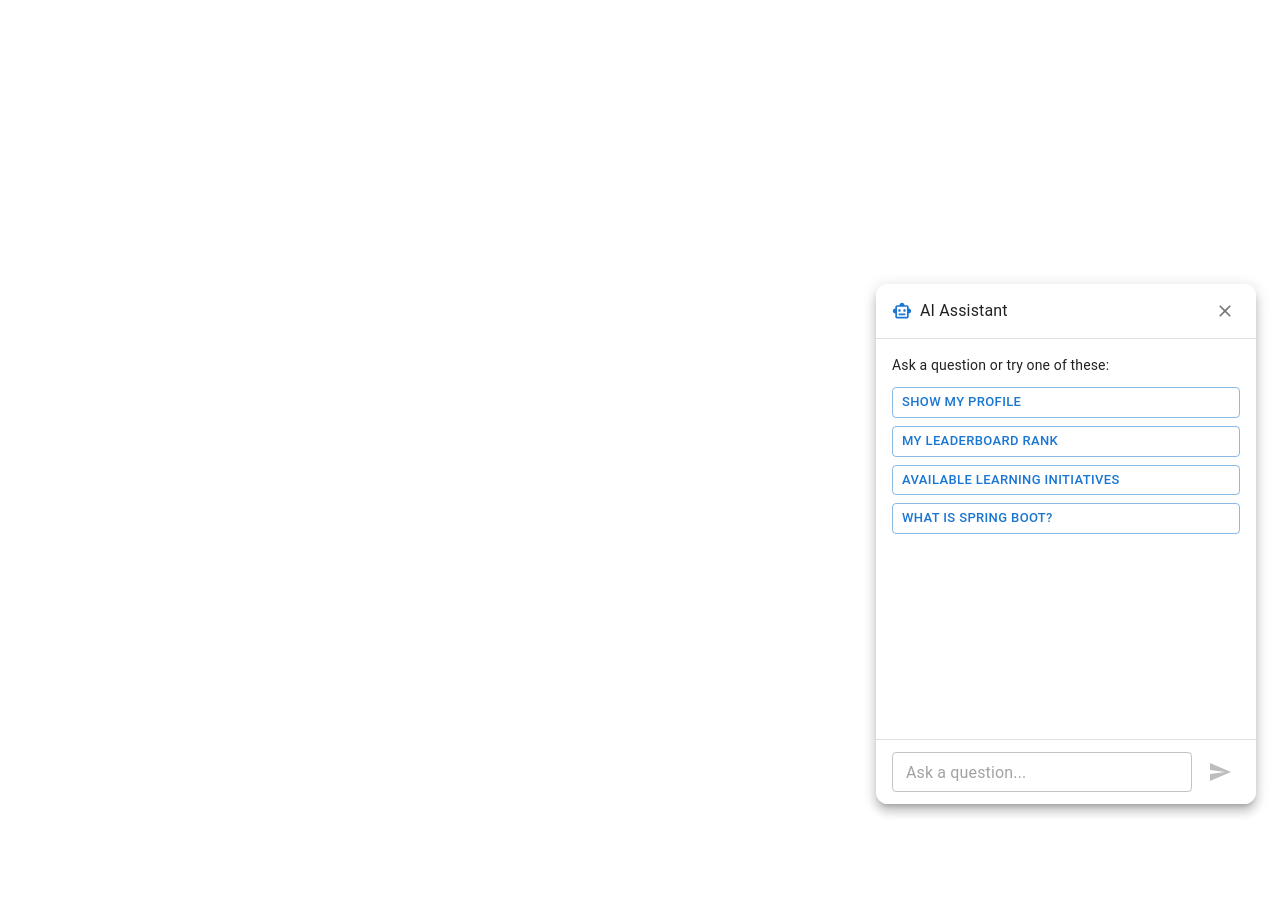
it: AssistantChatPanel › sends a suggested prompt when clicked
Click the button "My leaderboard rank" at (980, 440), box [892,426,1240,457]
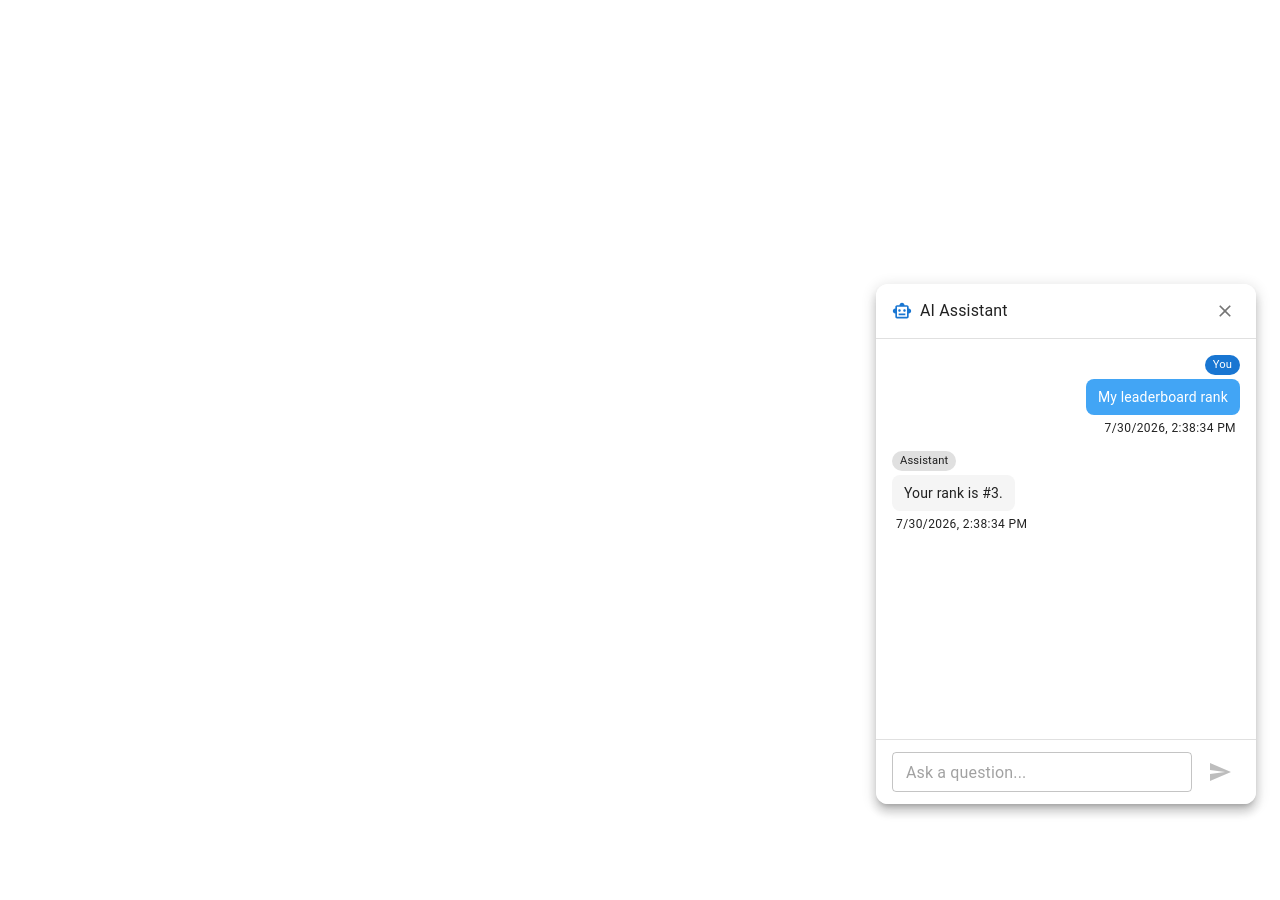
Expected: the text "Your rank is #3." is shown, [904,483,1003,503]
